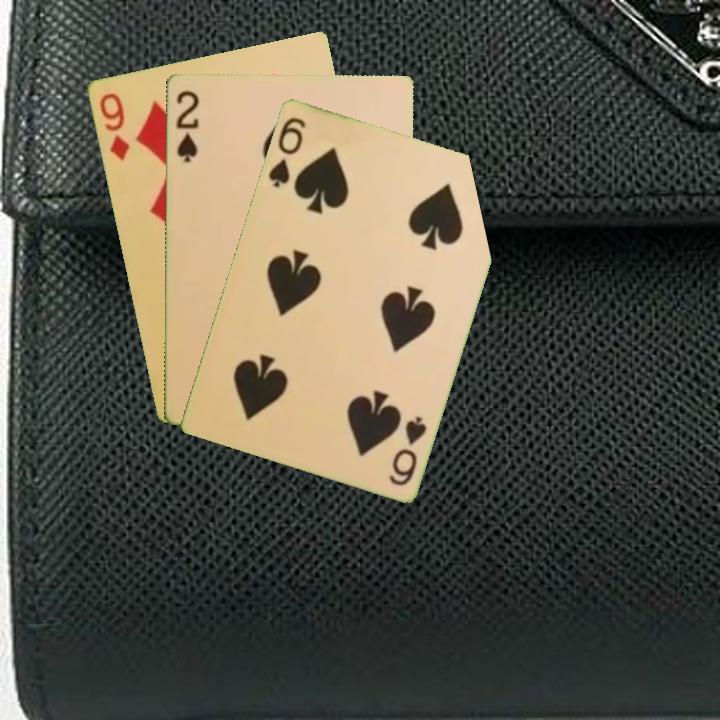2s: (173, 87, 201, 165)
6s: (264, 113, 309, 190), (385, 412, 429, 489)
9d: (95, 89, 132, 164)
